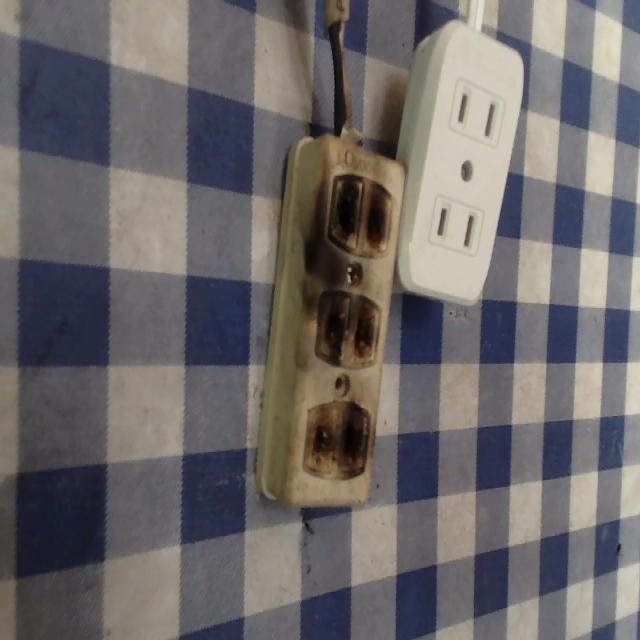-: (317, 287, 383, 376), (304, 399, 375, 477), (331, 170, 392, 258)
